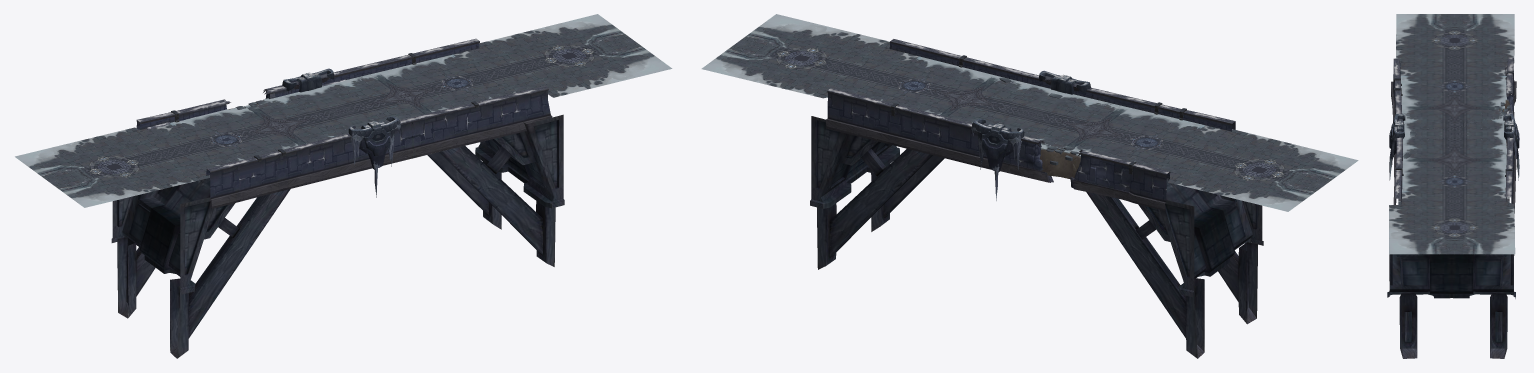
File: pvp_q.FBX
3 renders of one model, left to right at view 1: azimuth 30°, elevation 25°; view 2: azimuth 150°, elevation 25°; view 3: azimuth 270°, elevation 25°, orthographic. The views are drawn at different scales.
Visible parts, largest first — view 1: pvp_qiao01, pvp_dimian03; view 2: pvp_qiao01, pvp_dimian03; view 3: pvp_dimian03, pvp_qiao01.
Boxes of the visible parts, box(x1,y1,x2,y2) form: pvp_qiao01: box(111, 38, 564, 358); pvp_dimian03: box(15, 14, 672, 207); pvp_qiao01: box(810, 39, 1263, 358); pvp_dimian03: box(701, 14, 1358, 211); pvp_dimian03: box(1389, 14, 1515, 254); pvp_qiao01: box(1387, 57, 1519, 358).
Size of the model in its own units: 1571 by 365 by 490.
Materials: 2 (2 with a texture image).
